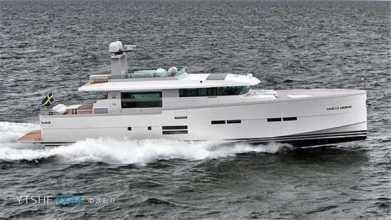yacht: (12, 41, 374, 147)
